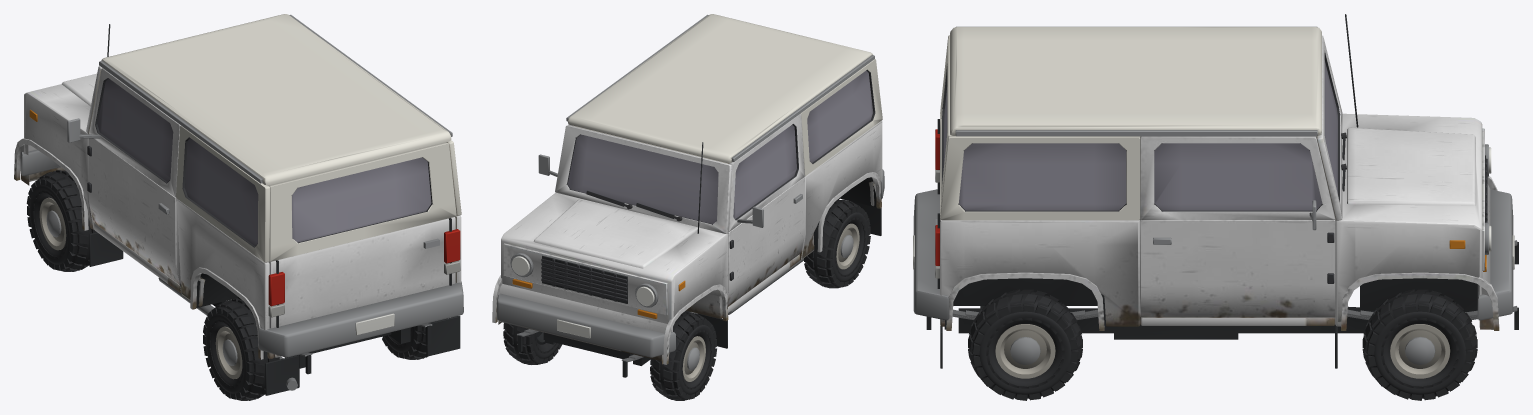
The model's file is scoutling.m.glb.
3 renders of one model, left to right at view 1: azimuth 30°, elevation 25°; view 2: azimuth 150°, elevation 25°; view 3: azimuth 270°, elevation 25°, orthographic. The views are drawn at different scales.
Visible parts, largest first — view 1: body, door_FL, wheel_RL, wheel_FL, wheel_RR; view 2: body, door_FL, wheel_RL, wheel_FL, wheel_FR; view 3: body, door_FR, wheel_FR, wheel_RR.
Part boxes in pixels (x1,y1,x2,y2): body: (14,14,463,395); door_FL: (67,68,180,284); wheel_RL: (203,299,279,400); wheel_FL: (26,170,96,271); wheel_RR: (381,325,427,359); body: (492,14,884,377); door_FL: (727,113,804,306); wheel_RL: (804,199,870,288); wheel_FL: (650,312,716,400); wheel_FR: (503,323,562,364); body: (913,14,1518,368); door_FR: (1140,136,1335,317); wheel_FR: (1362,289,1477,400); wheel_RR: (968,289,1082,400).
Size of the model in its own units: 2.14 by 2.11 by 3.9.
17 materials, 1 textured.
